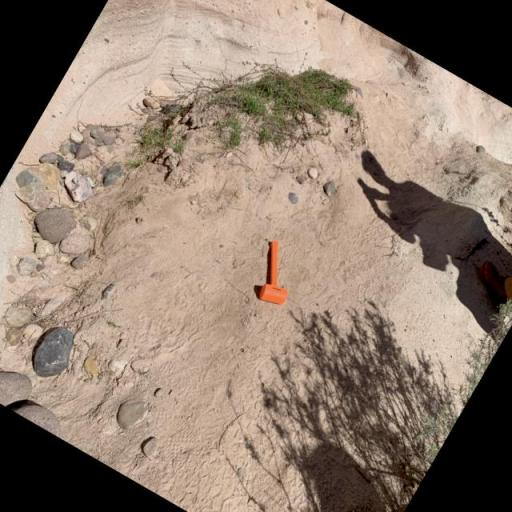mallet: (244, 238, 309, 310)
